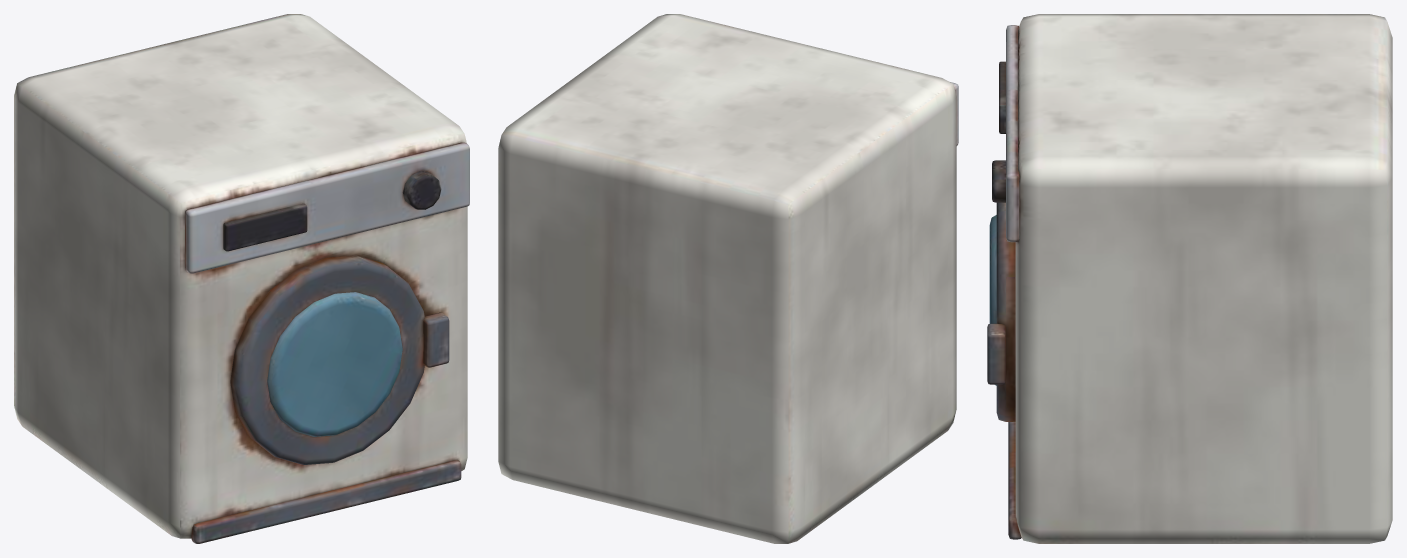
The model's file is washer.glb.
3 views of the same model, side by side, from view 1: azimuth 30°, elevation 25°; view 2: azimuth 150°, elevation 25°; view 3: azimuth 270°, elevation 25° (orthographic). The views are drawn at different scales.
Visible parts, largest first — view 1: body; view 2: body; view 3: body.
Part boxes in pixels (left/top/right/bottom): body: left=14, top=14, right=469, bottom=543; body: left=498, top=14, right=958, bottom=543; body: left=987, top=14, right=1392, bottom=543.
Bounding box in the file's own units: 0.8 × 0.9 × 0.86.
Materials: 1 (1 with a texture image).
